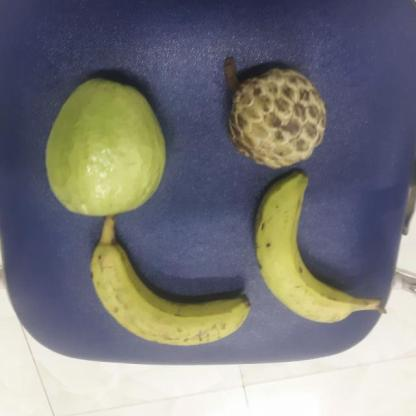annona: (224, 66, 332, 170)
banana: (85, 241, 254, 351), (249, 168, 352, 325)
guava: (43, 74, 168, 218)
